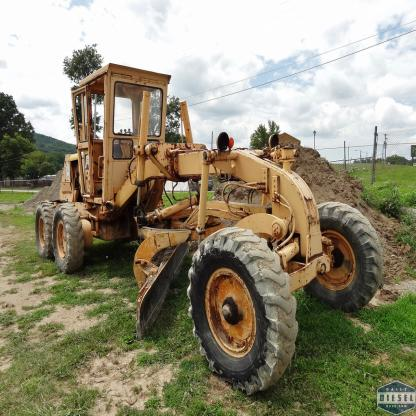bull_dozer/loader/grader: (30, 51, 412, 392)
